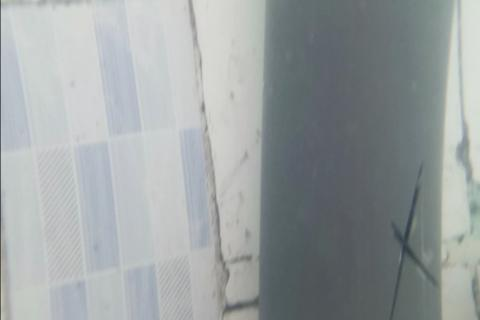keretakan: (388, 157, 439, 319)
